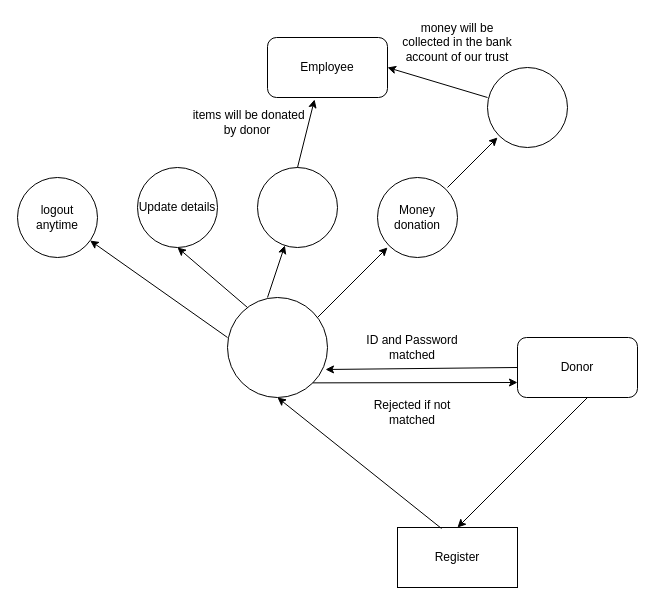
Image size: 655x605. Some labels were removed from this diagram. The box of each missing label's shape, as (x1, y1, x2, y2) in pixels:
Bank transaction: (486, 66, 568, 148)
Item donation: (256, 166, 338, 248)
Login: (226, 296, 328, 398)
